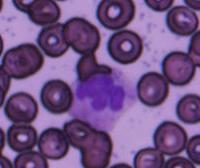N: (69, 70, 138, 132)
